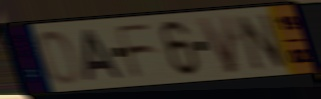6: (160, 18, 201, 78)
A: (83, 27, 126, 83)
F: (113, 21, 155, 81)
N: (232, 11, 290, 73)
O: (37, 28, 81, 86)
V: (194, 12, 239, 77)
